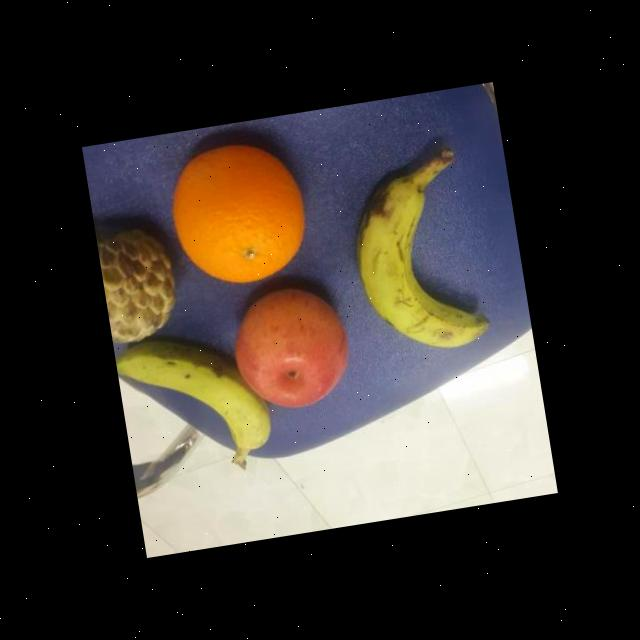Sakya fruit: (96, 222, 189, 348)
apple: (224, 278, 358, 419)
banana: (342, 165, 496, 366), (114, 322, 278, 472)
orange: (162, 133, 318, 294)
